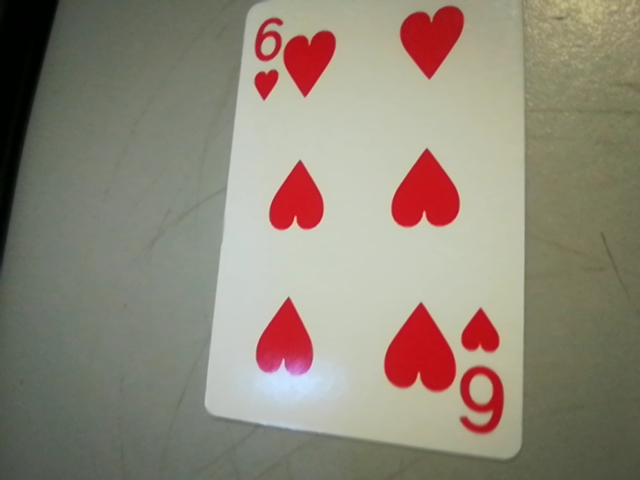hx 6: (453, 301, 517, 444)
